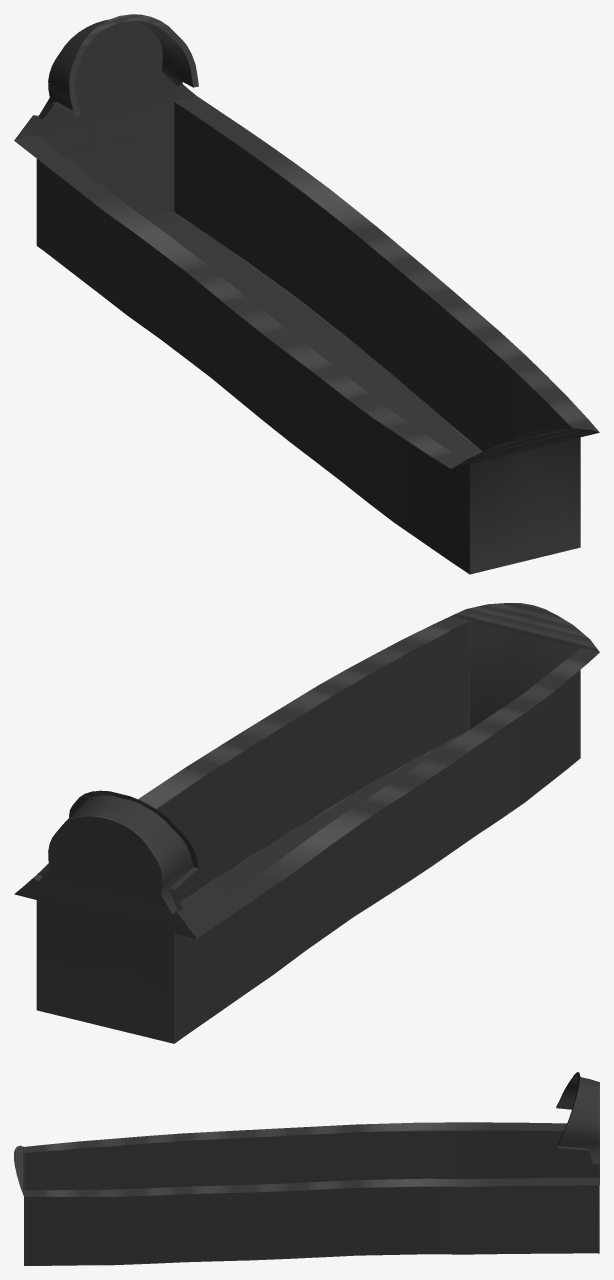
File: Cockpit_surround.fbx
The picture shows the model from 3 angles, top to bottom: view 1: azimuth 30°, elevation 25°; view 2: azimuth 150°, elevation 25°; view 3: azimuth 270°, elevation 25°; orthographic projection. The views are drawn at different scales.
Parts seen in each view (by area): view 1: Cockpit; view 2: Cockpit; view 3: Cockpit.
Part boxes in pixels (x1,y1,x2,y2): Cockpit: (14, 14, 599, 574); Cockpit: (14, 603, 599, 1043); Cockpit: (14, 1072, 599, 1265).
Bounding box in the file's own units: 107 × 132 × 413.
